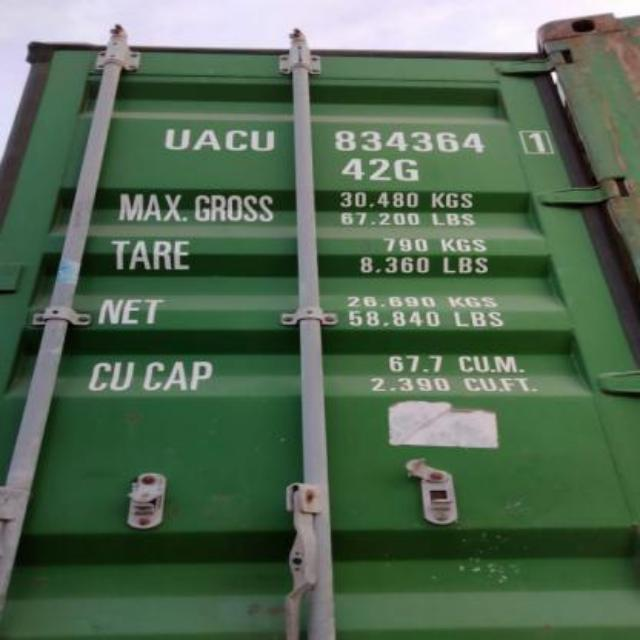1: (522, 126, 554, 158)
3: (359, 125, 385, 152), (411, 125, 434, 155)
4: (384, 124, 408, 156), (460, 126, 484, 156)
6: (436, 128, 459, 156)
8: (334, 125, 354, 154)
A: (192, 122, 220, 154)
C: (220, 122, 246, 154)
U: (248, 121, 280, 157), (160, 122, 190, 154)
